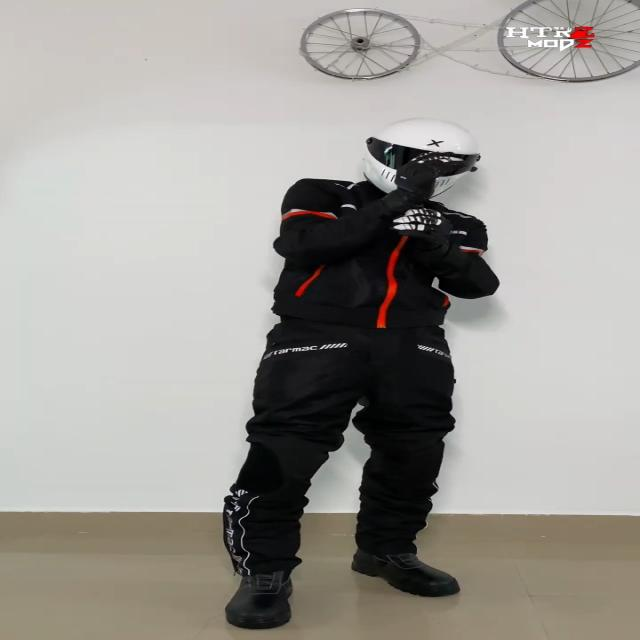Helmet_Wearer: (343, 120, 497, 213)
Jacket_Wearer: (260, 177, 499, 359)
Person: (236, 118, 492, 631)
